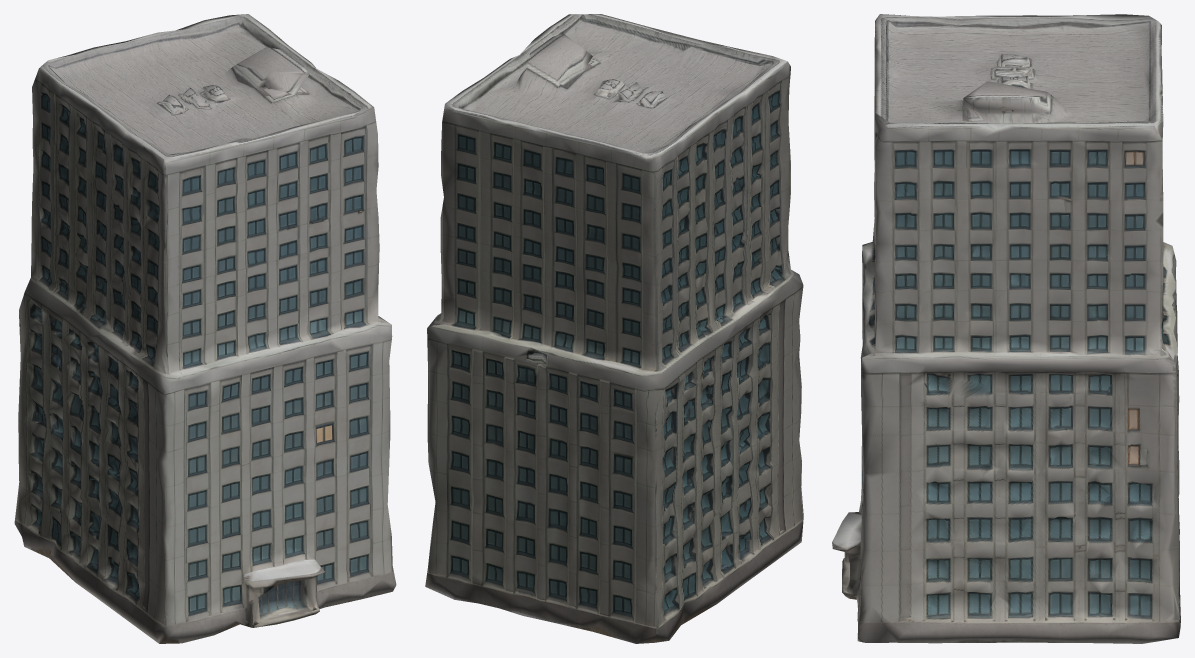
Rendered from KR_Tower_01.glb.
3 renders of one model, left to right at view 1: azimuth 30°, elevation 25°; view 2: azimuth 150°, elevation 25°; view 3: azimuth 270°, elevation 25°, orthographic. The views are drawn at different scales.
Parts seen in each view (by area): view 1: texture_mapping; view 2: texture_mapping; view 3: texture_mapping.
Part boxes in pixels (box(x1,y1,x2,y2)): texture_mapping: box(14, 14, 396, 643); texture_mapping: box(425, 14, 803, 643); texture_mapping: box(832, 14, 1180, 643).
Bounding box in the file's own units: 0.5006 × 1.01 × 0.6026.
Materials: 1 (1 with a texture image).
